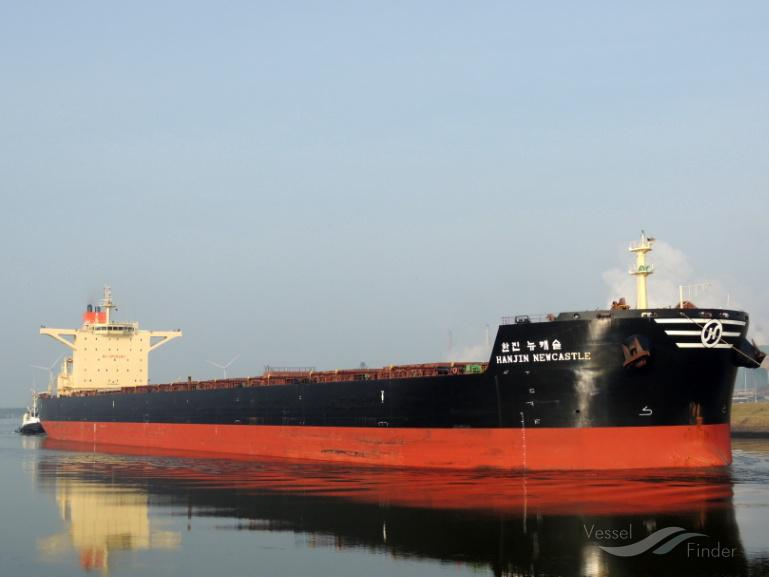OCR: (492, 338, 599, 373)
